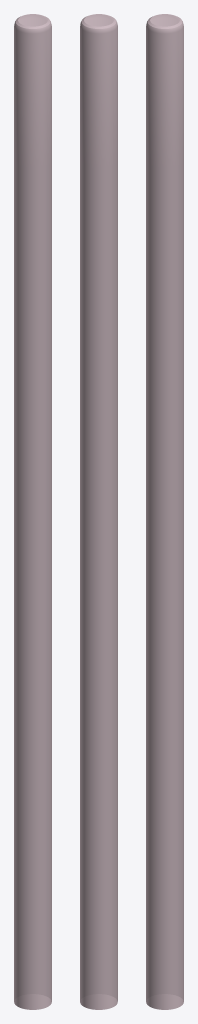
File: лезвие 2.fbx
3 views of the same model, side by side, from view 1: azimuth 90°, elevation 25°; view 2: azimuth 150°, elevation 25°; view 3: azimuth 270°, elevation 25° (orthographic).
Parts seen in each view (by area): view 1: Cylinder.004; view 2: Cylinder.004; view 3: Cylinder.004.
Boxes of the visible parts, x1,y1,x2,y2 form: Cylinder.004: [14, 14, 51, 1009]; Cylinder.004: [80, 14, 117, 1009]; Cylinder.004: [146, 14, 183, 1009].
Bounding box in the file's own units: 2 × 57.3 × 2.
